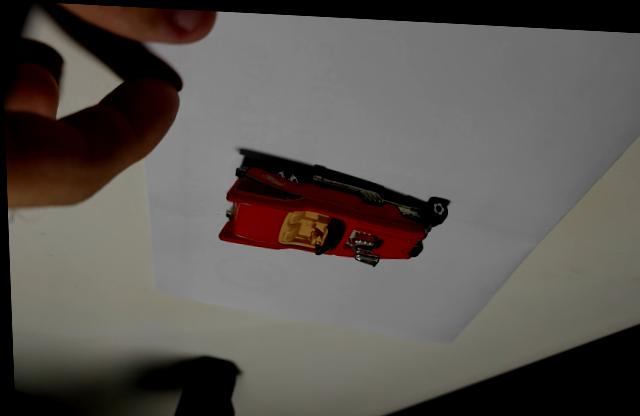03_V8: (216, 144, 450, 261)
